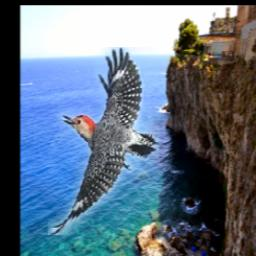Woodpecker: (49, 47, 160, 235)
